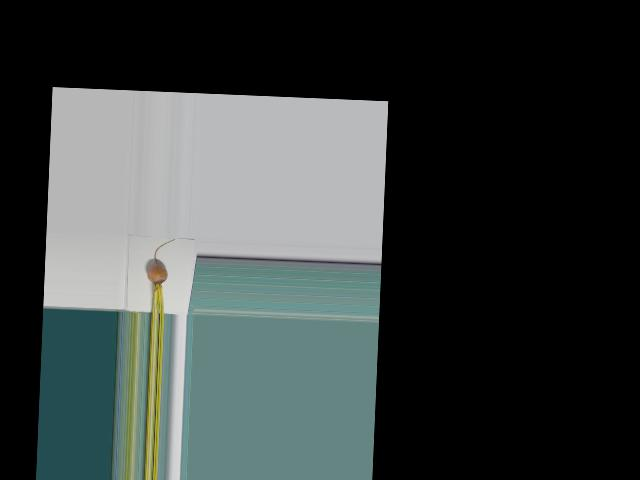beet: (145, 238, 174, 313)
